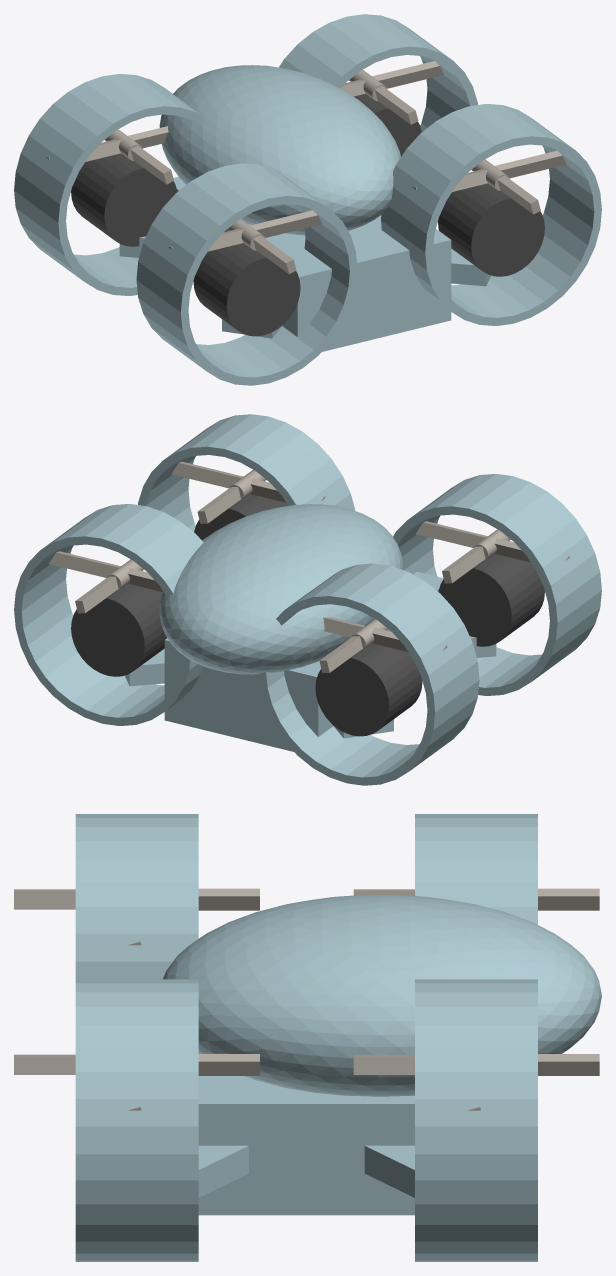
The model's file is Cetus X.glb.
The picture shows the model from 3 angles, top to bottom: view 1: azimuth 30°, elevation 25°; view 2: azimuth 150°, elevation 25°; view 3: azimuth 270°, elevation 25°; orthographic projection. The views are drawn at different scales.
Parts seen in each view (by area): view 1: canopy, duct_0, duct_2, duct_3, frame_body, duct_1, motor_2, motor_0, motor_3, prop_0, prop_2, prop_1 (+3 smaller); view 2: canopy, duct_3, duct_1, duct_2, duct_0, frame_body, motor_3, motor_1, motor_2, prop_2, prop_0, prop_1 (+3 smaller); view 3: canopy, duct_0, duct_1, frame_body, duct_2, duct_3, prop_2, prop_0, prop_1, arm_0, arm_1, prop_3.
Boxes of the visible parts, <box> form: canopy: <box>159,65,400,235</box>; duct_0: <box>381,104,601,325</box>; duct_2: <box>136,163,357,385</box>; duct_3: <box>14,74,203,295</box>; frame_body: <box>173,176,451,351</box>; duct_1: <box>279,14,477,131</box>; motor_2: <box>193,243,300,336</box>; motor_0: <box>438,183,544,276</box>; motor_3: <box>71,153,177,246</box>; prop_0: <box>412,150,566,214</box>; prop_2: <box>167,210,321,273</box>; prop_1: <box>340,61,443,124</box>; canopy: <box>159,504,402,674</box>; duct_3: <box>259,563,479,785</box>; duct_1: <box>14,504,203,725</box>; duct_2: <box>393,474,601,695</box>; duct_0: <box>138,414,355,531</box>; frame_body: <box>164,571,443,751</box>; motor_3: <box>315,643,422,736</box>; motor_1: <box>71,583,166,676</box>; motor_2: <box>438,553,544,646</box>; prop_2: <box>415,521,569,583</box>; prop_0: <box>171,461,325,523</box>; prop_1: <box>49,551,162,613</box>; canopy: <box>163,895,601,1096</box>; duct_0: <box>75,979,198,1261</box>; duct_1: <box>415,979,537,1261</box>; frame_body: <box>198,1076,414,1215</box>; duct_2: <box>75,814,198,979</box>; duct_3: <box>415,814,537,924</box>; prop_2: <box>14,888,259,945</box>; prop_0: <box>14,1054,259,1110</box>; prop_1: <box>353,1054,599,1110</box>; arm_0: <box>198,1145,248,1197</box>; arm_1: <box>364,1145,414,1197</box>; prop_3: <box>353,888,599,910</box>.
Size of the model in its own units: 0.1096 by 0.046 by 0.0956.
